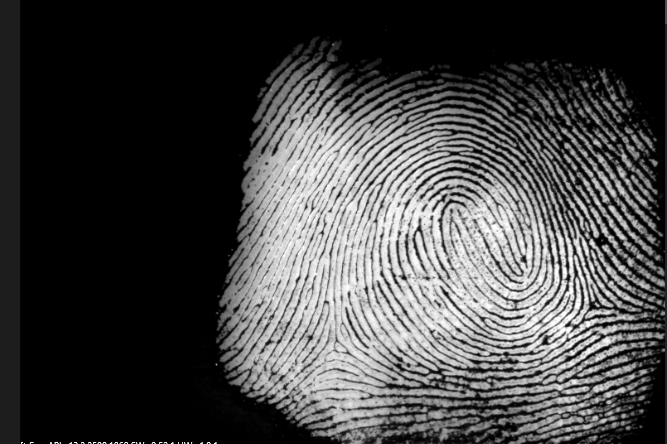deltas: (310, 310, 379, 385), (561, 272, 615, 333)
nucleo: (439, 184, 531, 287)
